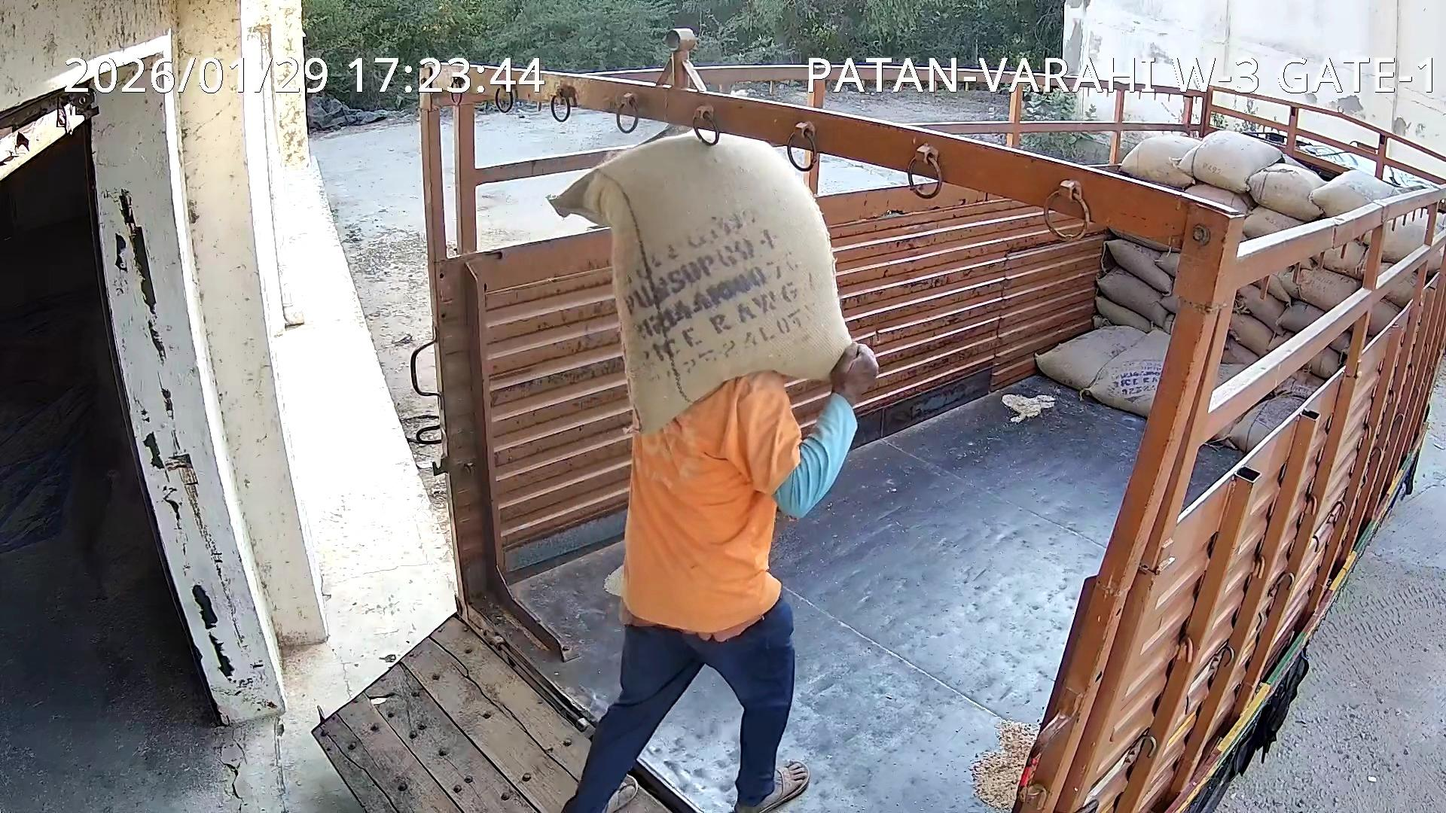Sack: (549, 132, 850, 433)
